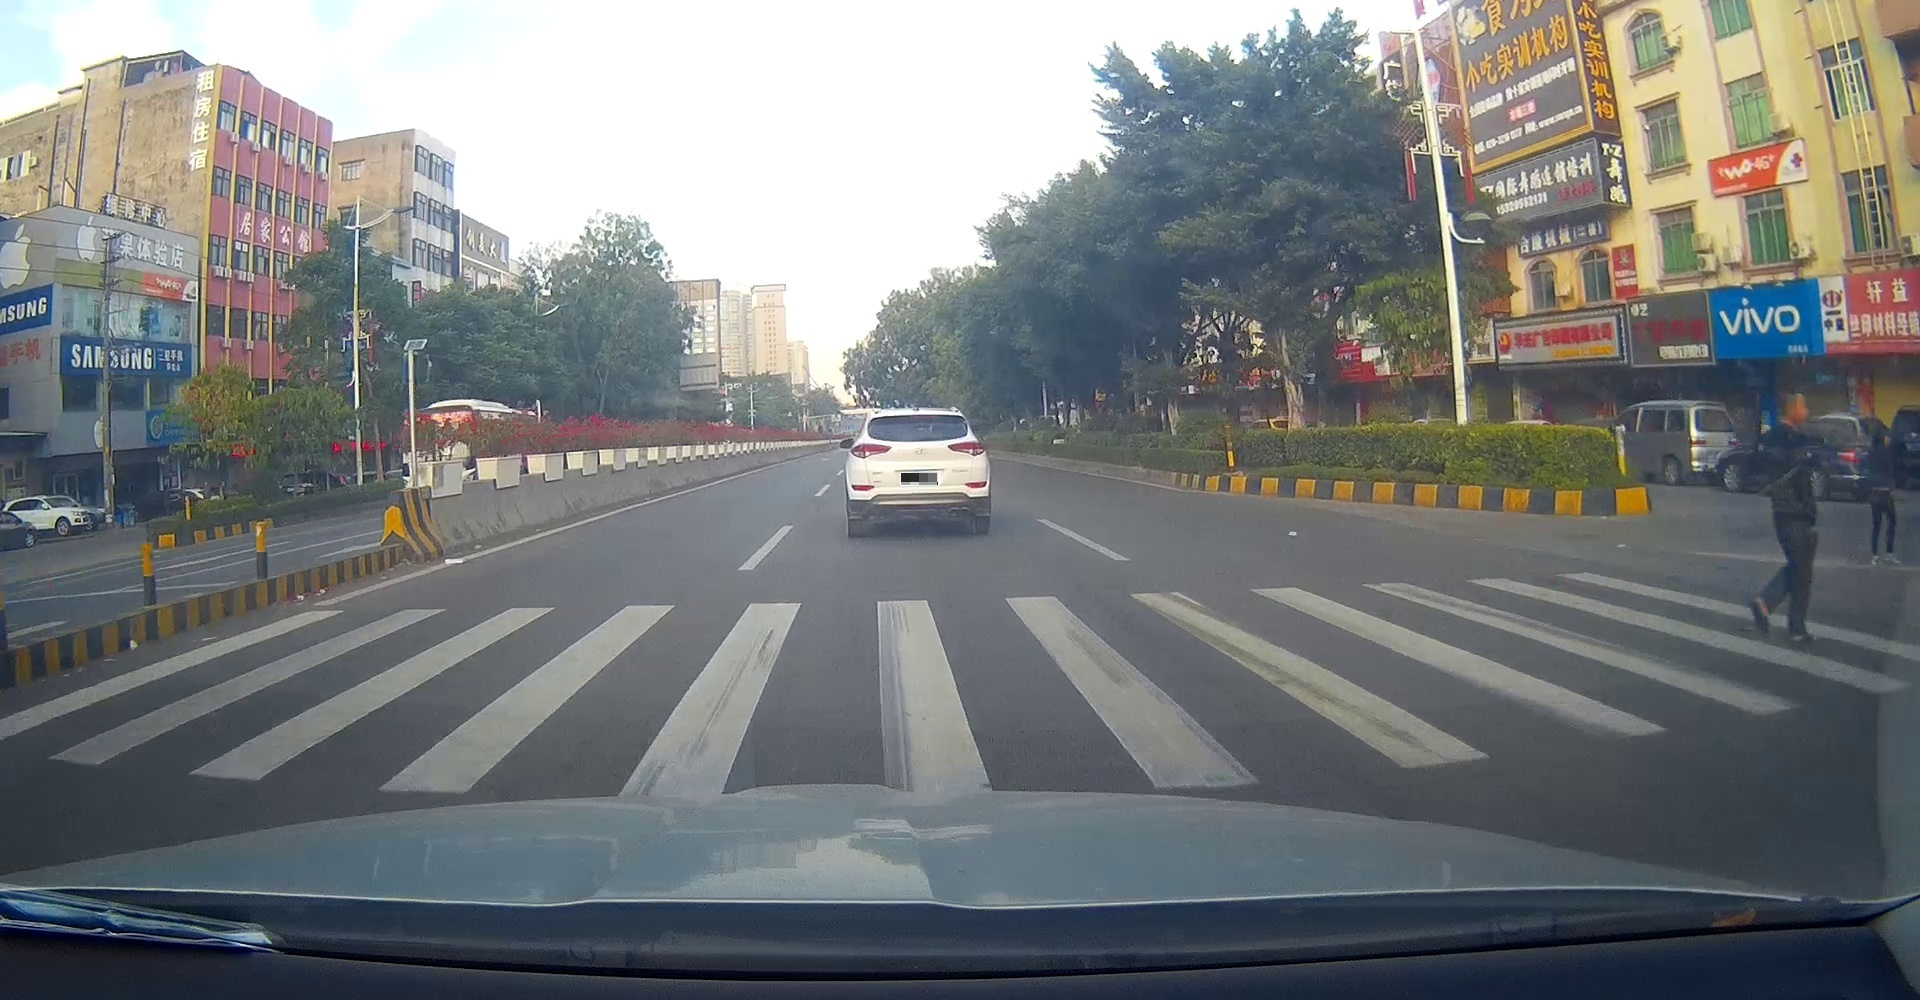L_light: (850, 443, 891, 459)
R_light: (947, 442, 987, 456)
T_light: (910, 415, 937, 419)
day-no: (846, 409, 990, 538)
plate_1: (902, 473, 938, 485)
